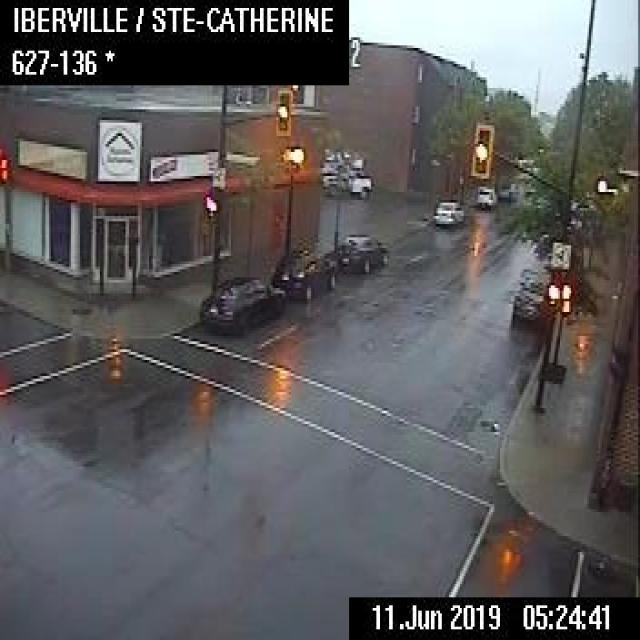vehicle: (196, 274, 284, 334), (271, 245, 336, 298), (510, 268, 546, 326), (334, 233, 386, 271), (320, 166, 370, 196), (433, 200, 464, 224), (473, 185, 496, 209)
